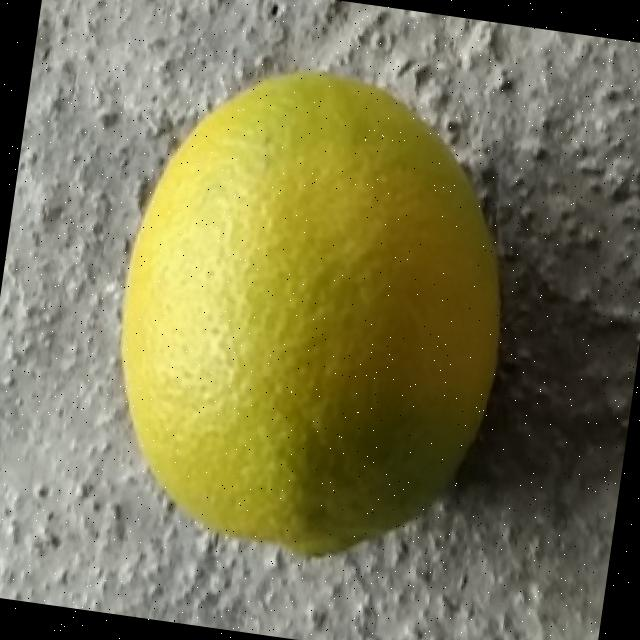Lemon: (88, 48, 538, 584)
